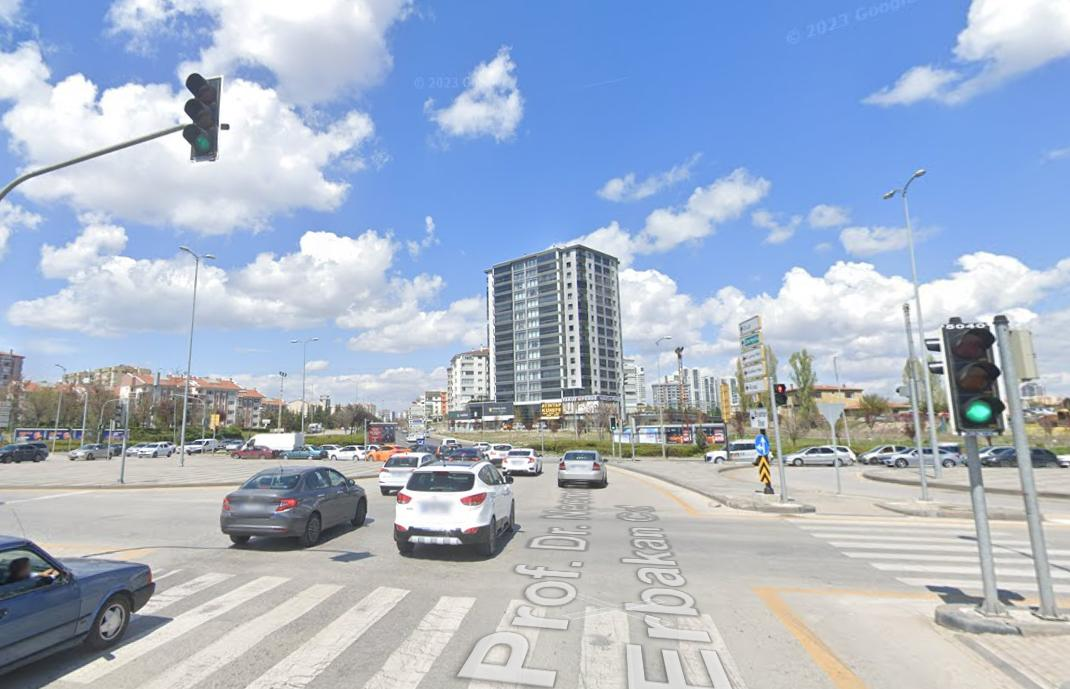greenlight: (937, 313, 1015, 449), (170, 65, 226, 168)
